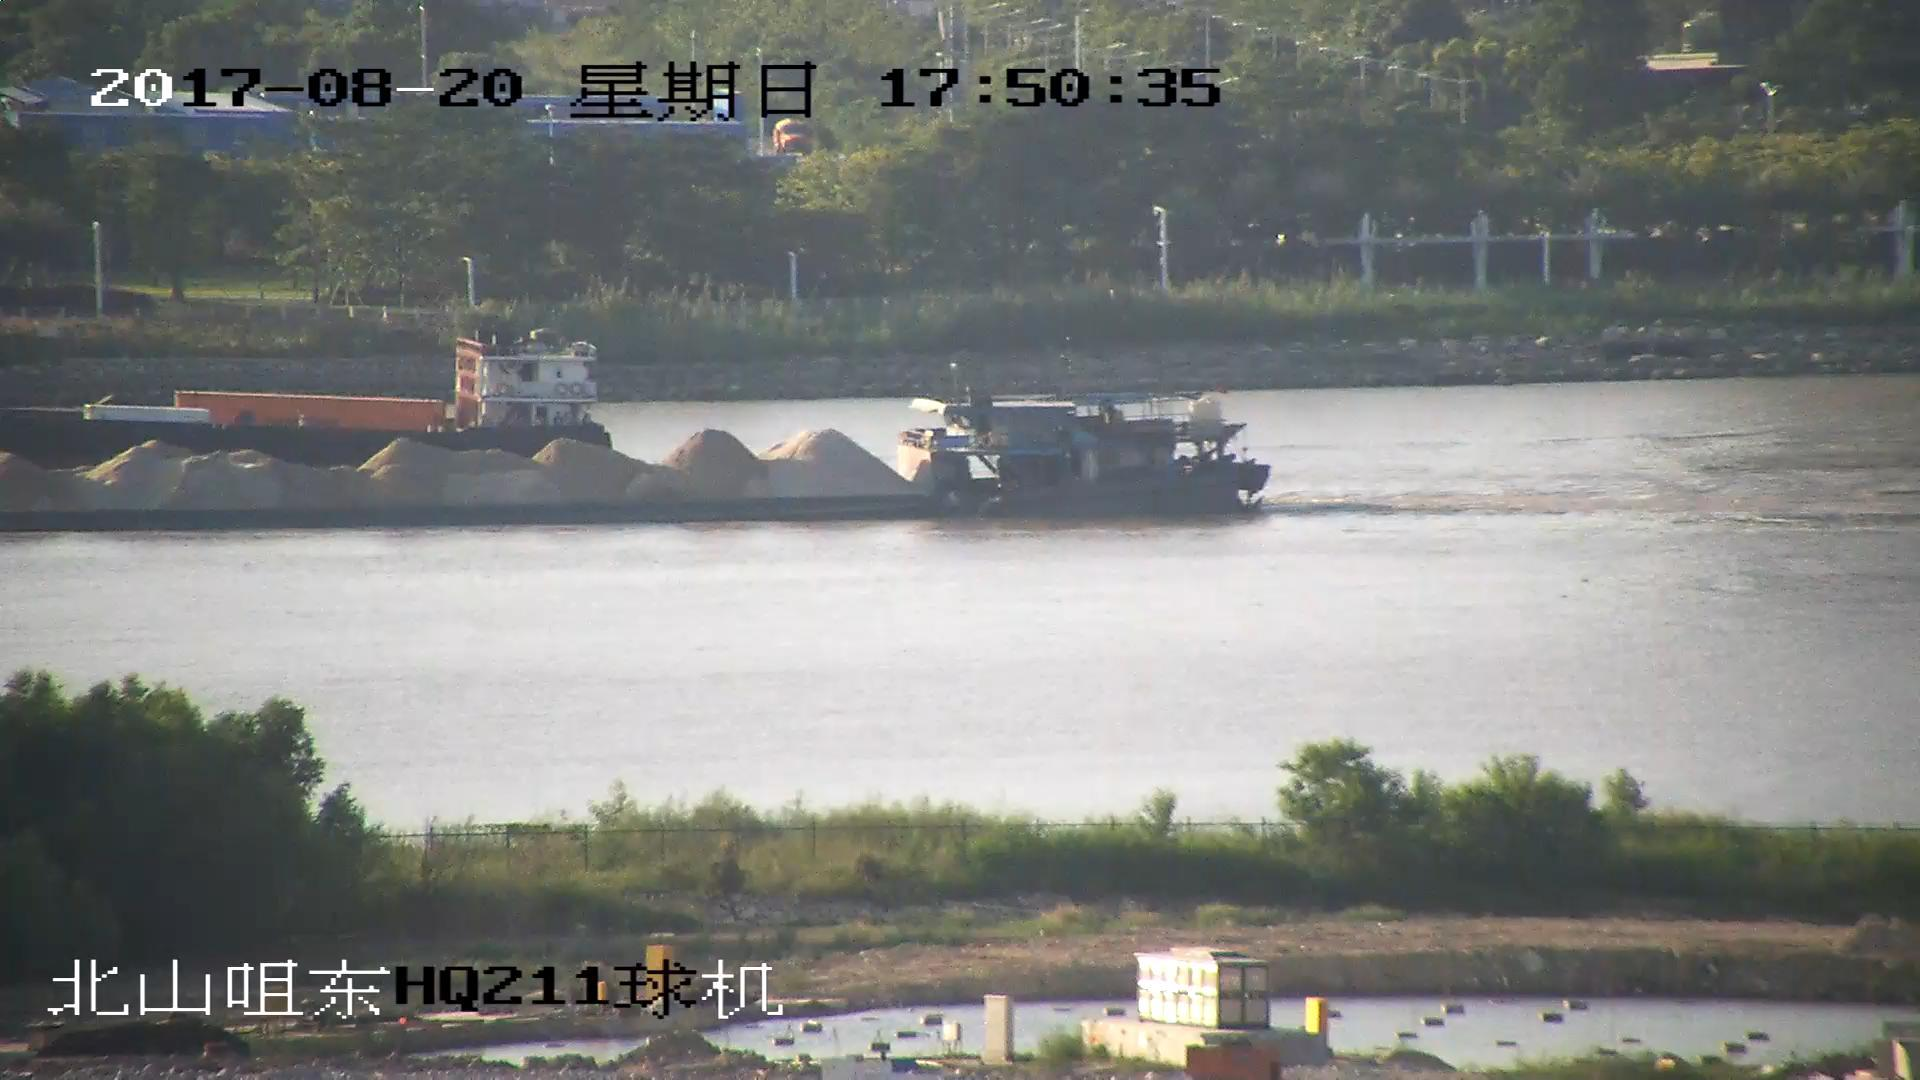Ship: (3, 375, 1269, 534), (3, 322, 628, 489)
